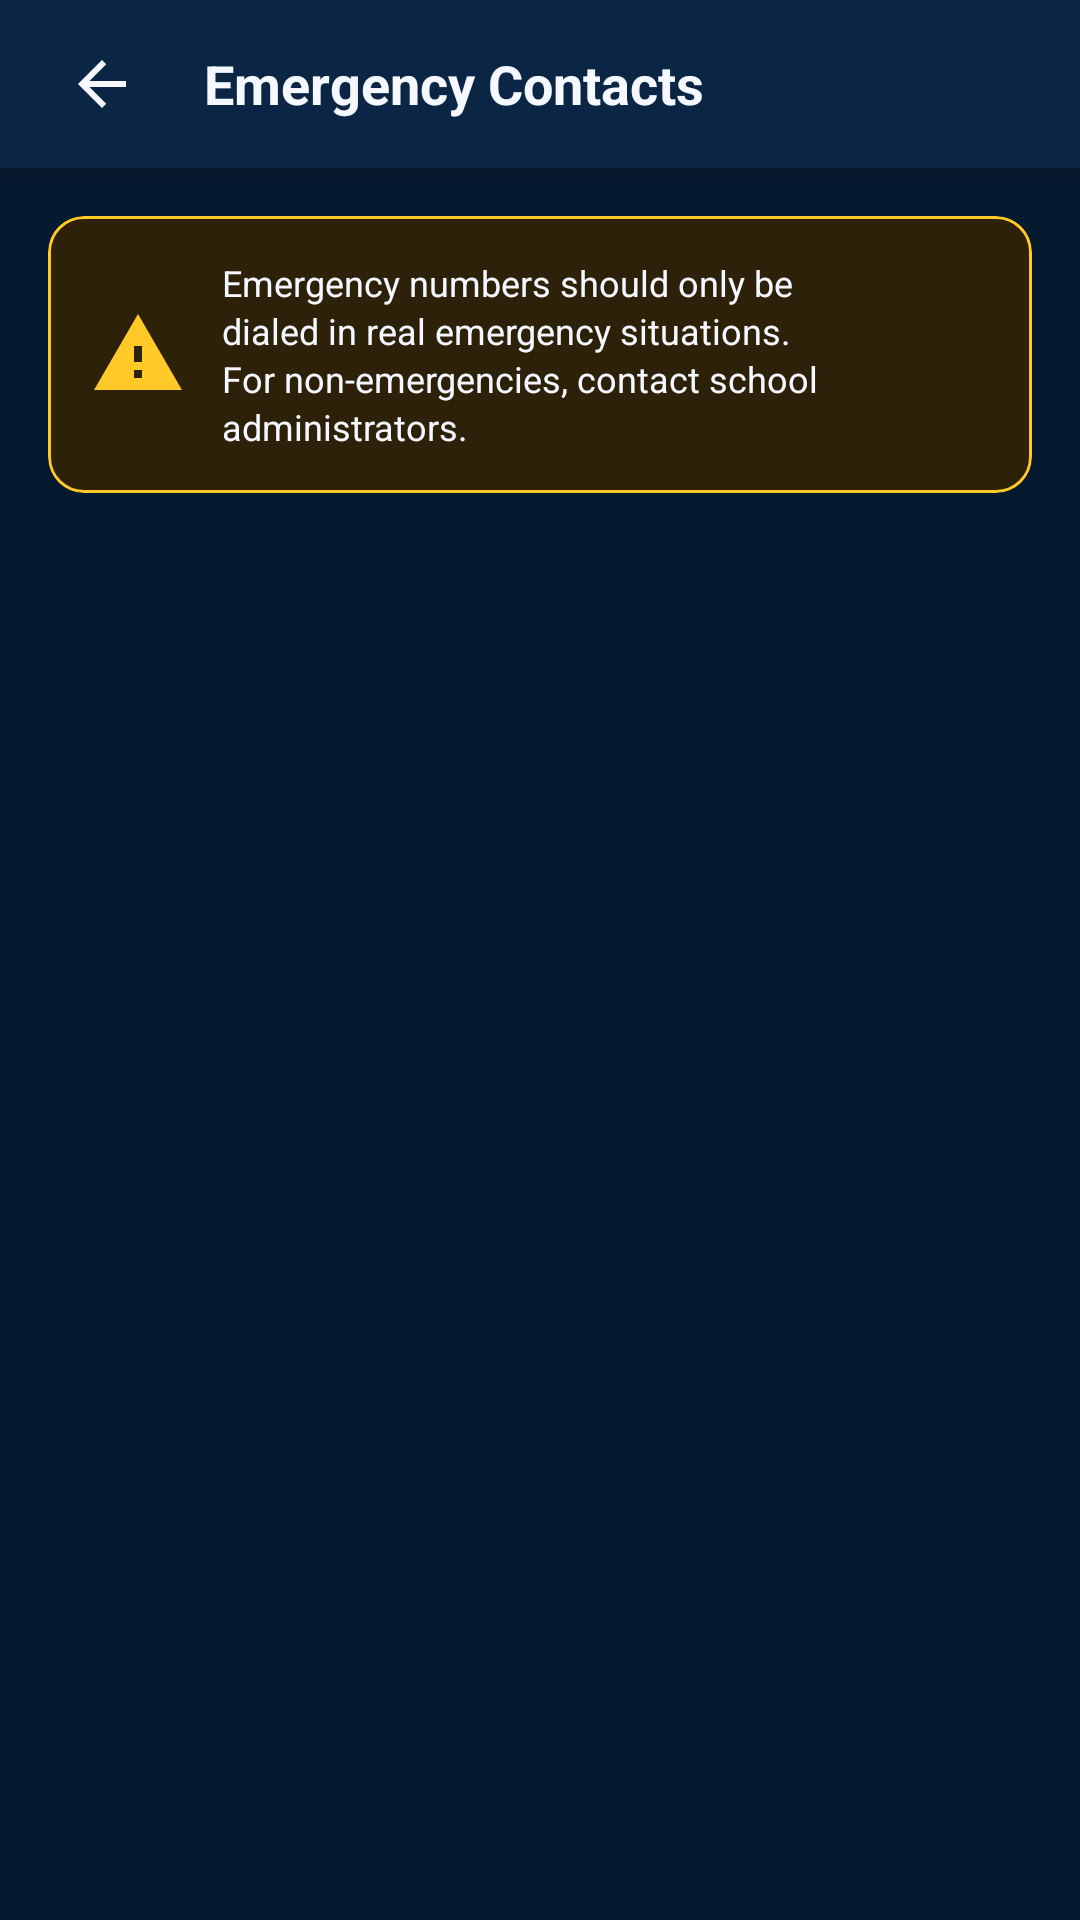

Where icons sit on this 1080×1920 app screen, as (x1, y1, x2, y2):
Back: (78, 60, 126, 108)
Warning: (94, 314, 182, 390)
